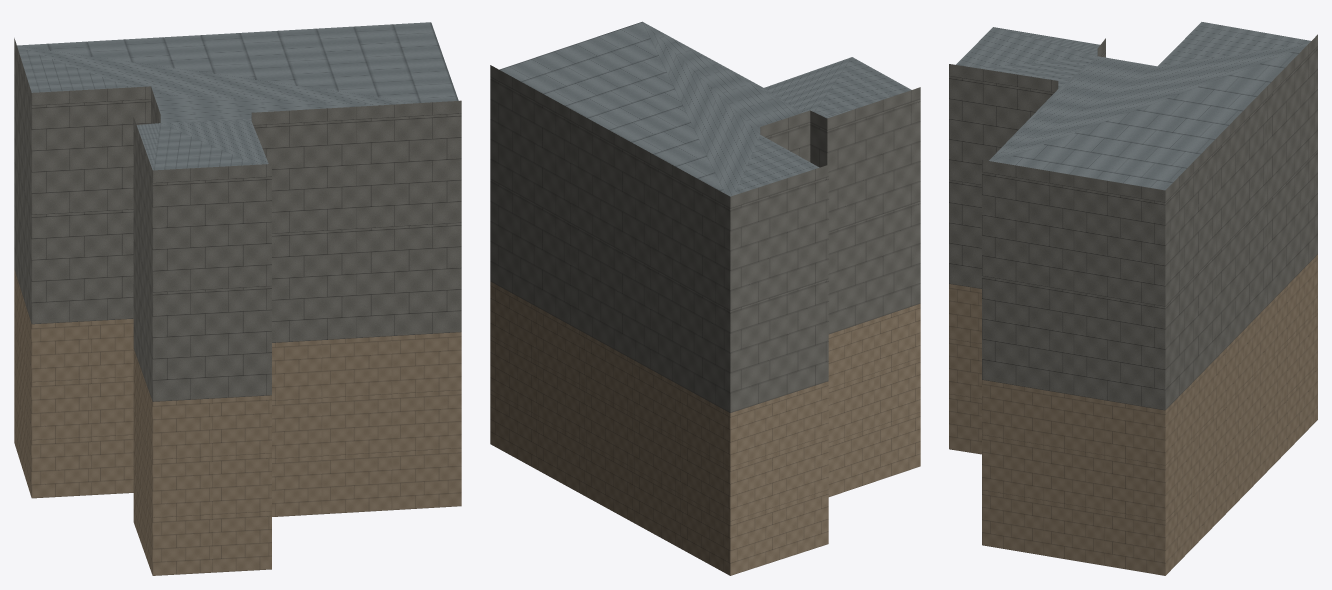
The model's file is bld_c7_39_523.gltf.
3 renders of one model, left to right at view 1: azimuth 30°, elevation 25°; view 2: azimuth 150°, elevation 25°; view 3: azimuth 270°, elevation 25°, orthographic. The views are drawn at different scales.
Parts seen in each view (by area): view 1: bld_c7_39_523; view 2: bld_c7_39_523; view 3: bld_c7_39_523.
Boxes of the visible parts, x1,y1,x2,y2 form: bld_c7_39_523: (14,22,461,575); bld_c7_39_523: (490,21,920,575); bld_c7_39_523: (949,22,1317,575).
Bounding box in the file's own units: 11.66 × 11.88 × 10.3.
4 materials, 4 textured.
